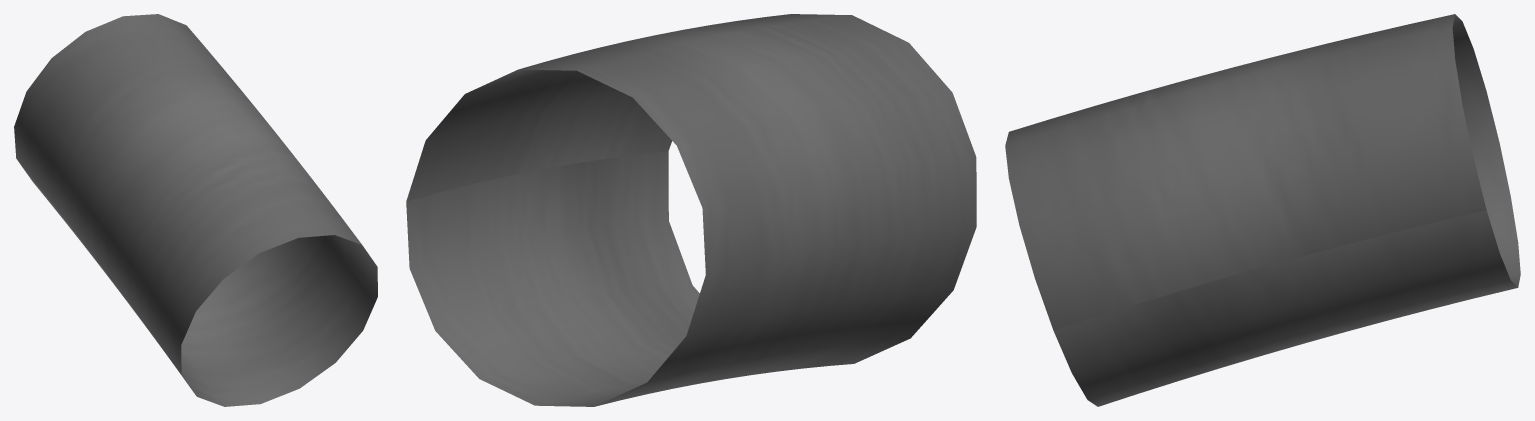
File: mastarmcurve_4x1_c2.obj
3 views of the same model, side by side, from view 1: azimuth 30°, elevation 25°; view 2: azimuth 150°, elevation 25°; view 3: azimuth 270°, elevation 25° (orthographic). The views are drawn at different scales.
Parts seen in each view (by area): view 1: mastarm_4x1_c2; view 2: mastarm_4x1_c2; view 3: mastarm_4x1_c2.
Part boxes in pixels (left/top/right/bottom): mastarm_4x1_c2: left=14, top=14, right=377, bottom=406; mastarm_4x1_c2: left=406, top=14, right=976, bottom=406; mastarm_4x1_c2: left=1005, top=14, right=1520, bottom=406.
Size of the model in its own units: 0.553 by 0.7714 by 0.9858.
